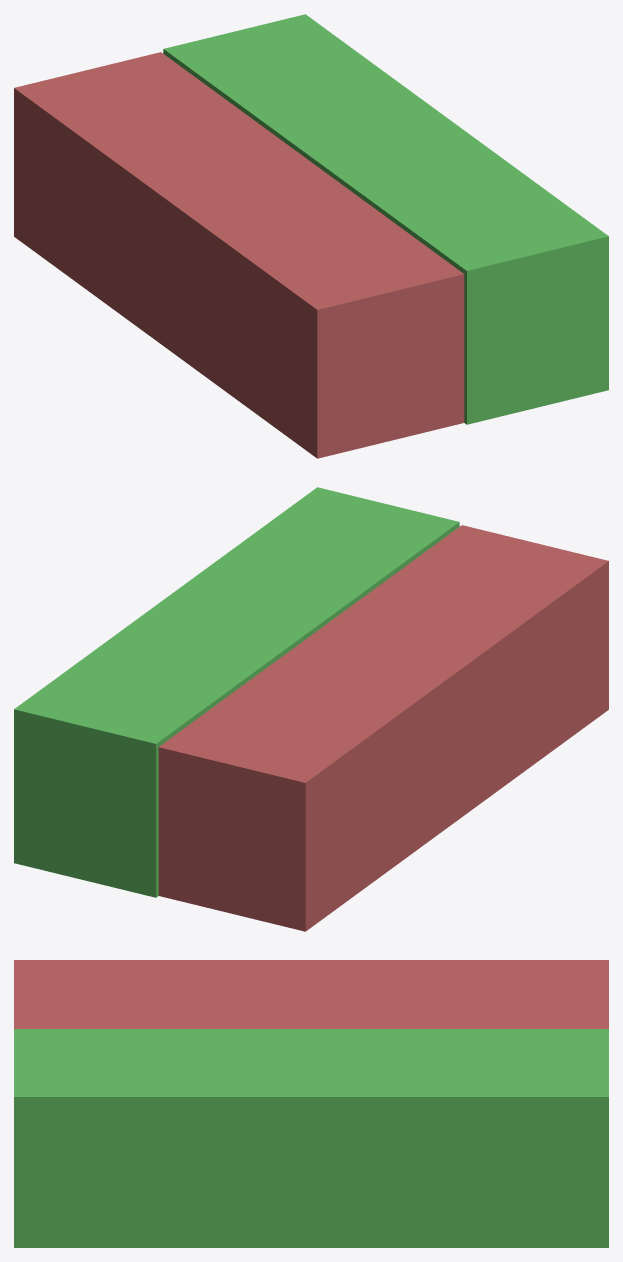
Rendered from order_106647_pall_2.glb.
3 renders of one model, top to bottom at view 1: azimuth 30°, elevation 25°; view 2: azimuth 150°, elevation 25°; view 3: azimuth 270°, elevation 25°, orthographic.
Visible parts, largest first — view 1: world; view 2: world; view 3: world.
Boxes of the visible parts, x1,y1,x2,y2 form: world: [14, 14, 608, 458]; world: [14, 487, 608, 931]; world: [14, 960, 608, 1247].
Size of the model in its own units: 1194 by 602 by 2152.
